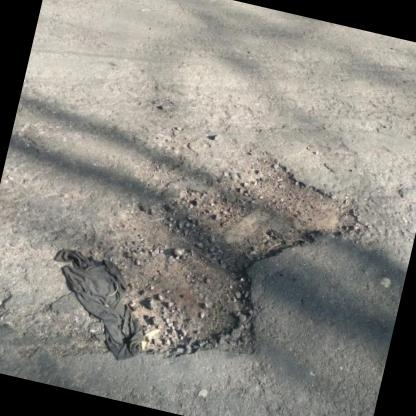pothole: (72, 118, 374, 401)
